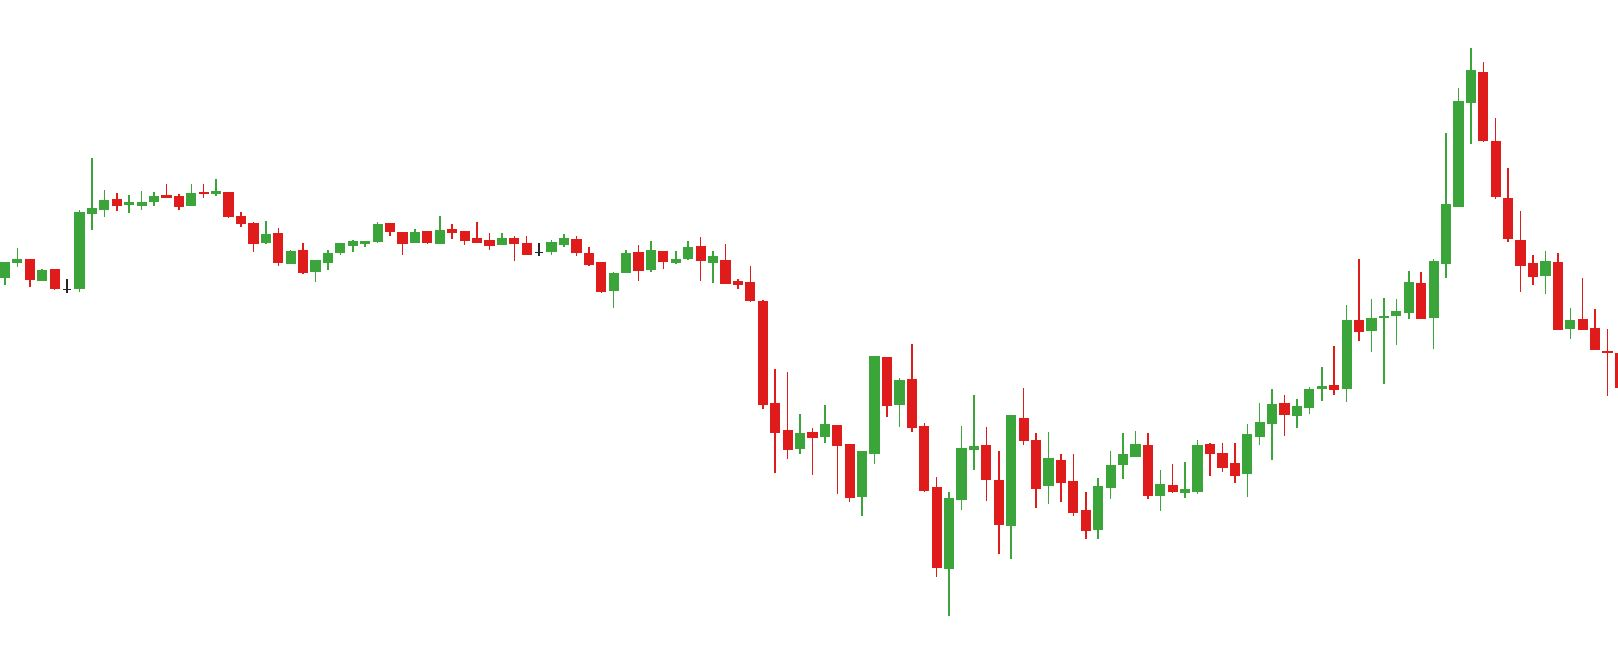buy: (841, 401, 958, 625)
